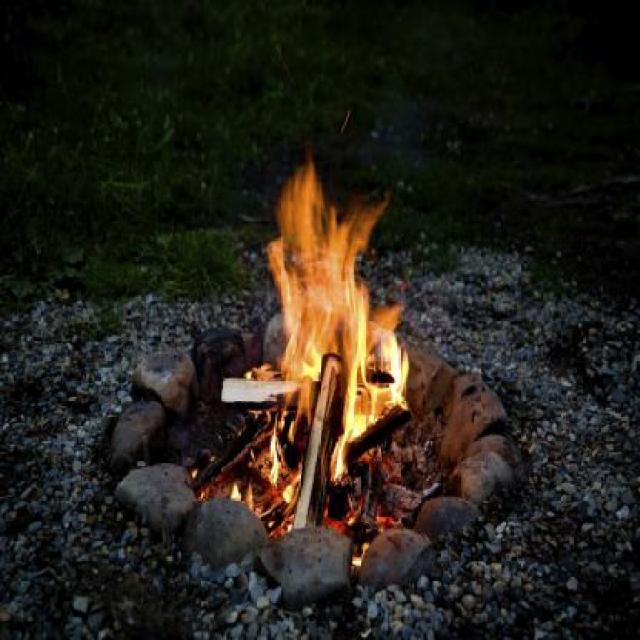Fire: (268, 152, 408, 382), (332, 380, 366, 478)
